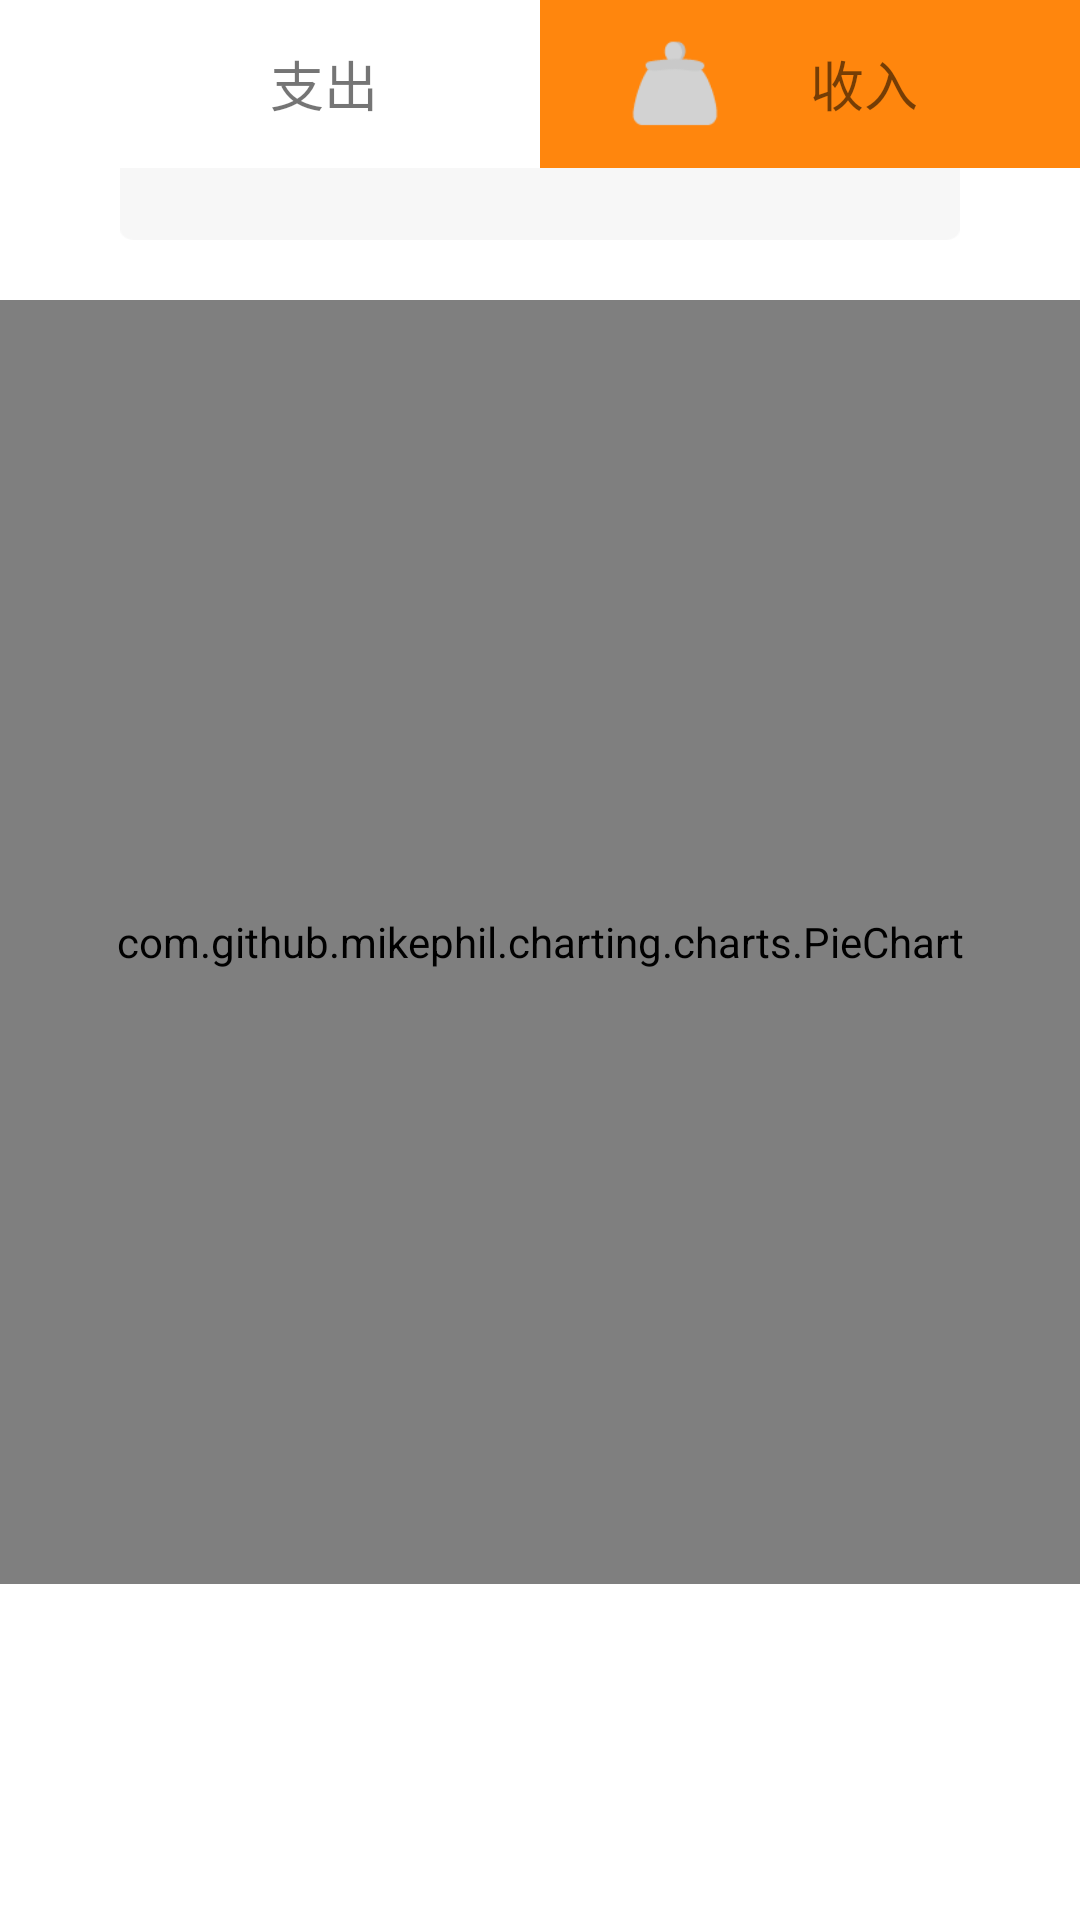

Where to tap for icons on this 1080×1920 app screen, as (x=x, y=y):
income: (x=675, y=83)
